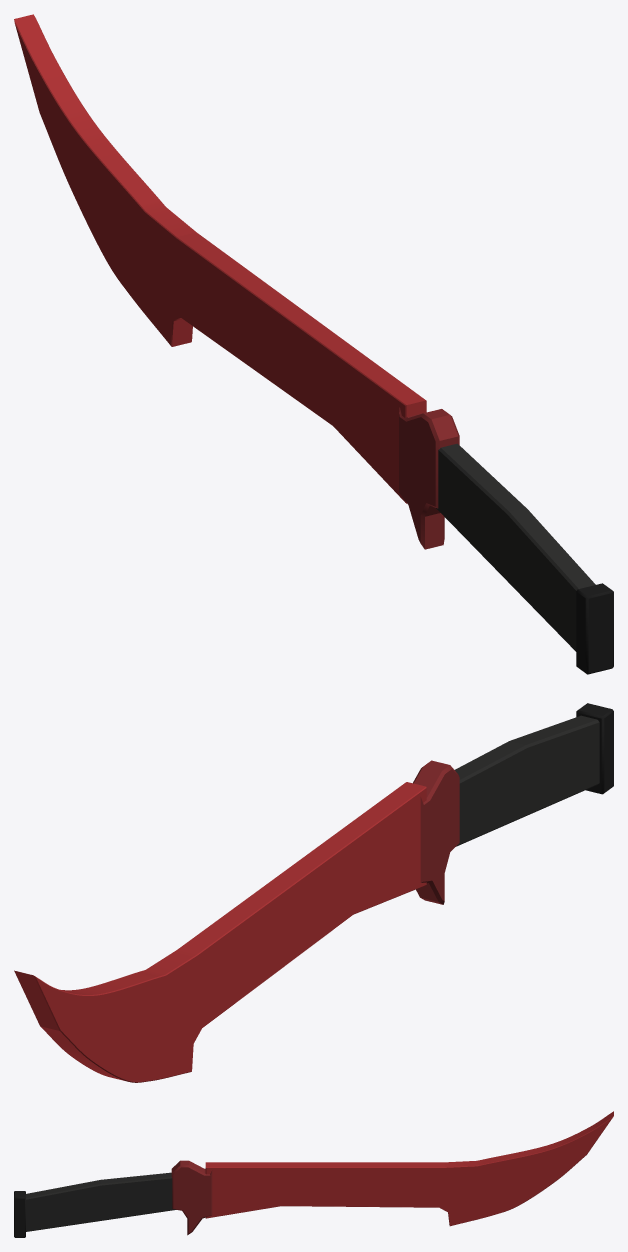
The picture shows the model from 3 angles, top to bottom: view 1: azimuth 30°, elevation 25°; view 2: azimuth 150°, elevation 25°; view 3: azimuth 270°, elevation 25°; orthographic projection. The views are drawn at different scales.
Visible parts, largest first — view 1: sword; view 2: sword; view 3: sword.
Boxes of the visible parts, x1,y1,x2,y2 form: sword: (14,14,613,674); sword: (14,703,613,1082); sword: (14,1111,613,1237).
Size of the model in its own units: 0.00987 by 0.078 by 0.3498.
